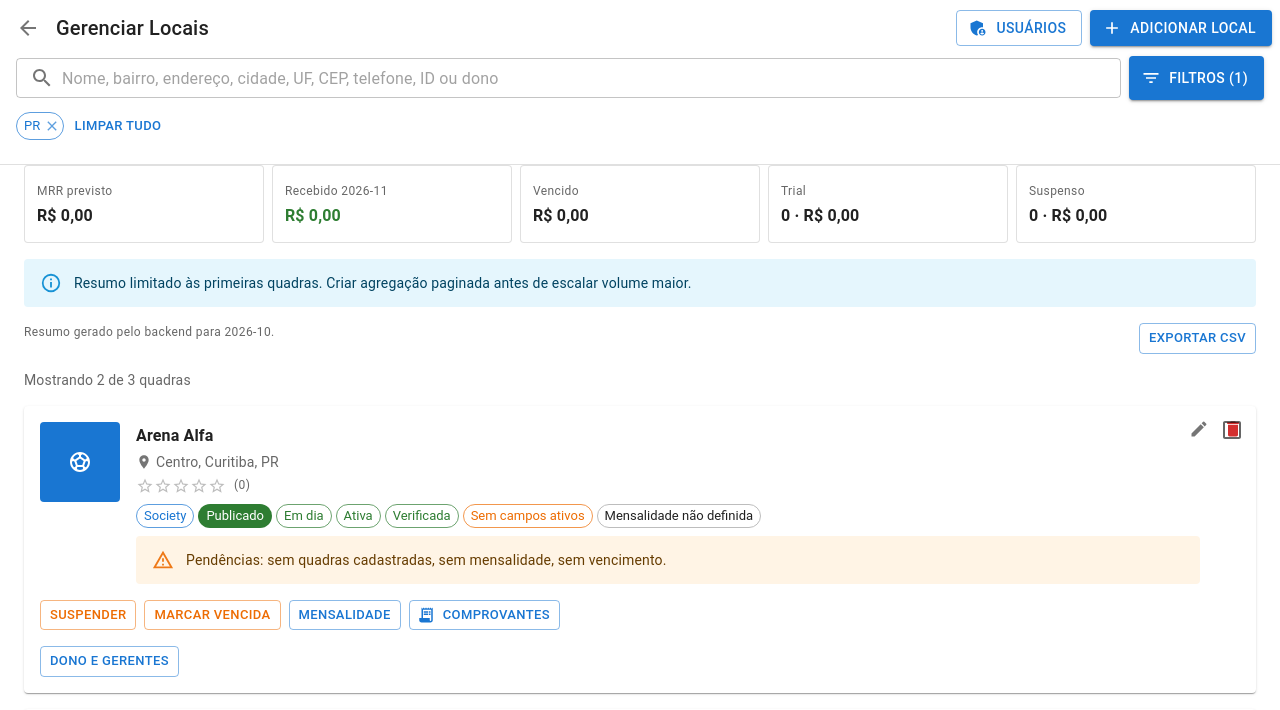
it: ManageLocationsScreen (admin) — filtros, busca e vistas › mobile: botão "Filtros (n)" abre o bottom sheet e o chip some ao remover
Click the button "Filtros (1)" at [1197, 78], box [1129,56,1264,100]
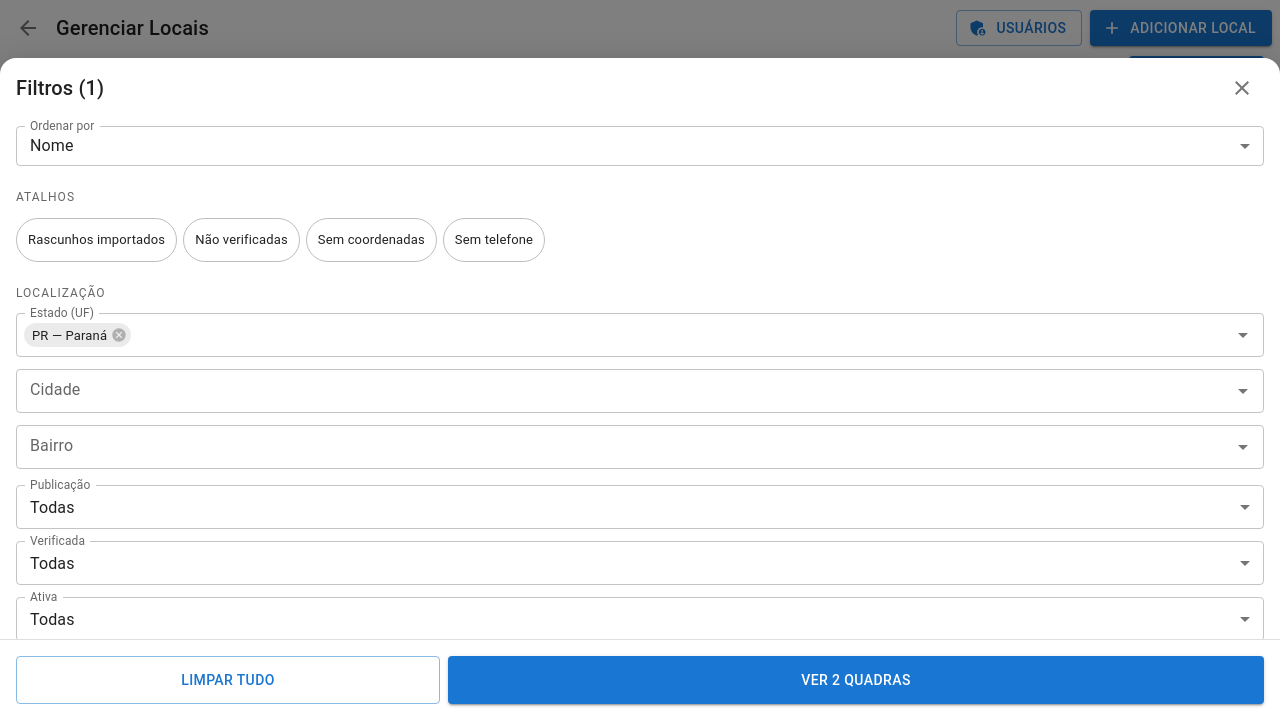
Now the button "Ver 2 quadras" is shown, box [448,656,1264,704]
